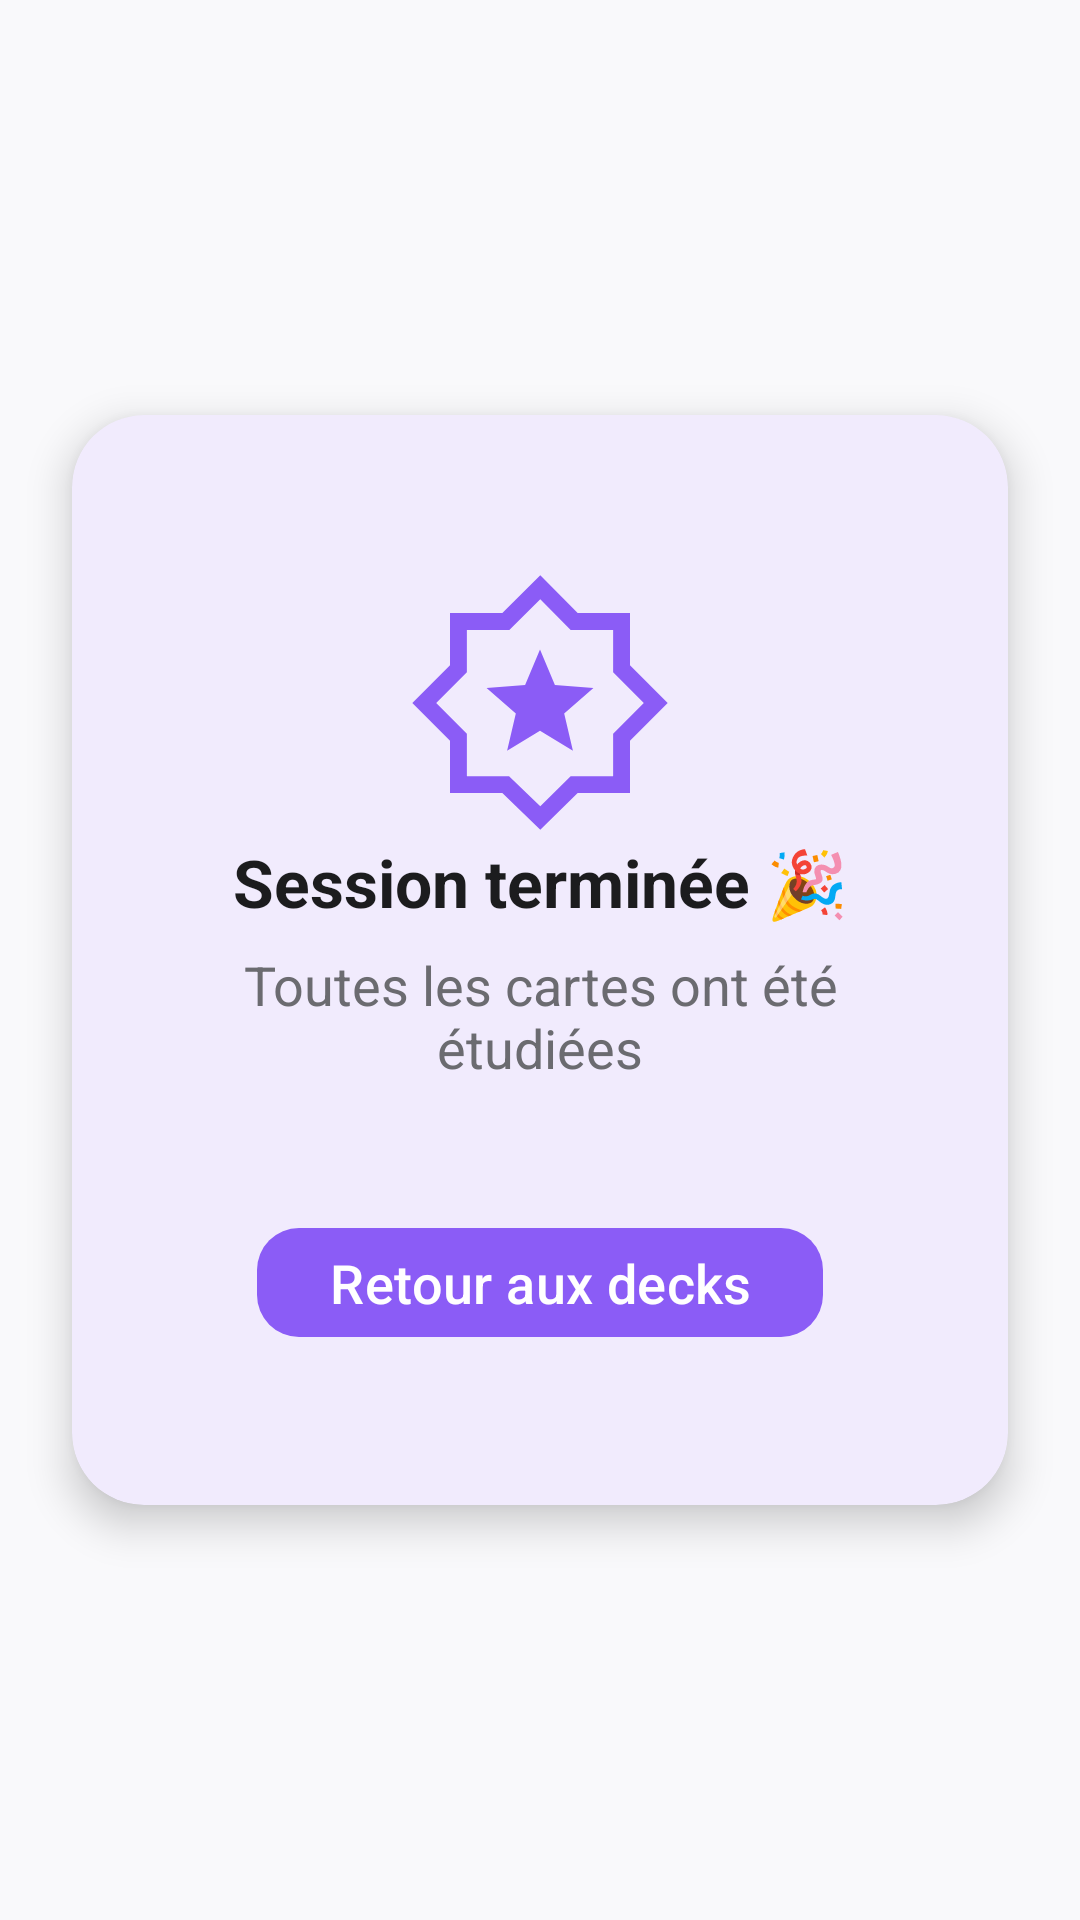

Icons on this 1080x1920 Android screen, each with its box as (x1, y1, x2, y2):
award: (412, 575, 668, 830)
